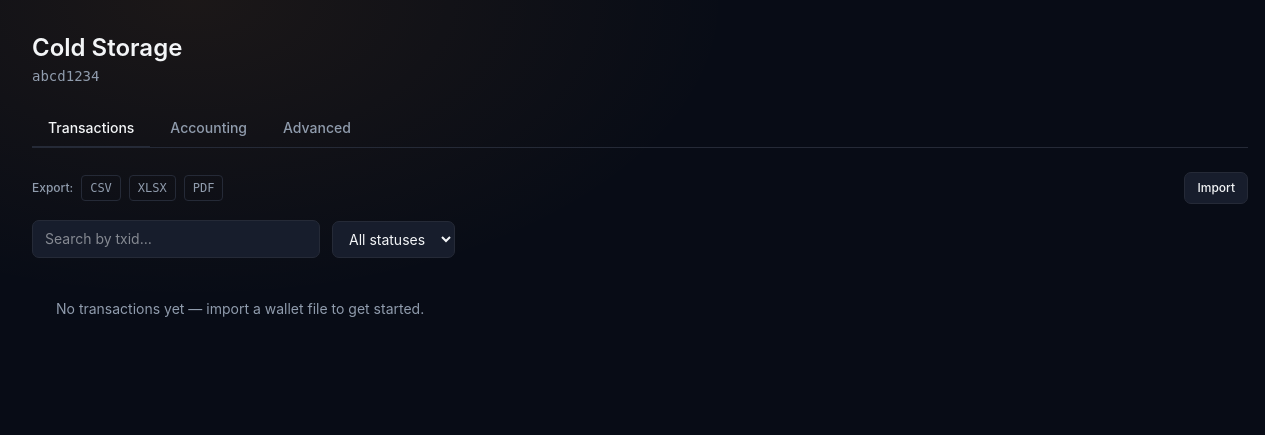
Test case: WalletPage › runs accounting and renders the summary cards
The image size is (1265, 435).
Click the tab "Accounting".
click(209, 129)  # box [154,110,263,148]
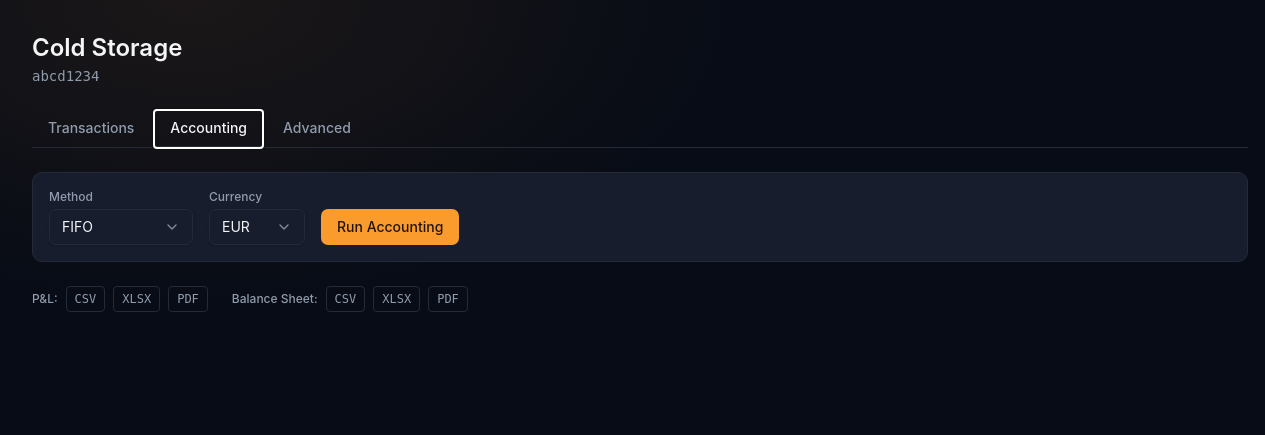
Click the button "Run Accounting".
click(390, 227)  # box [321,209,459,245]
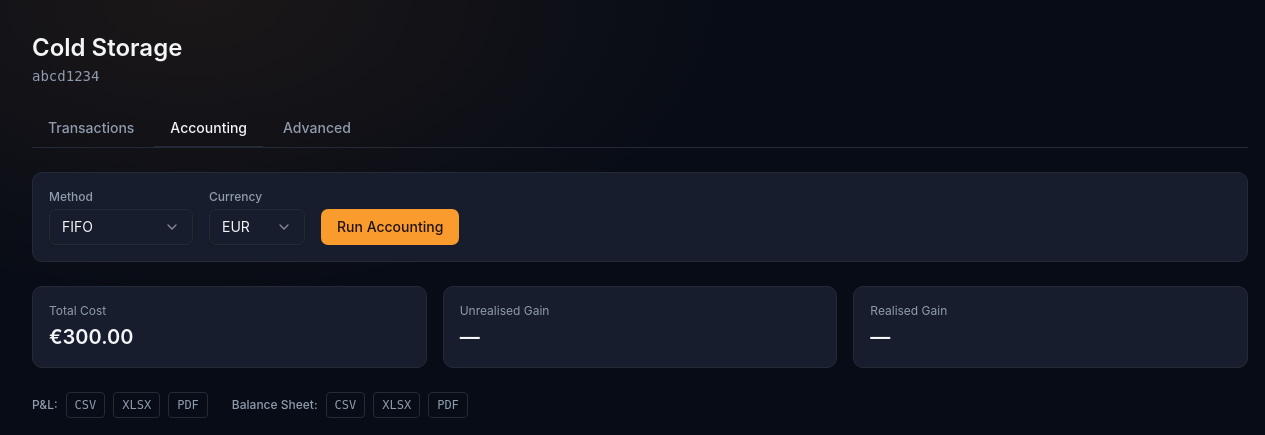
Now the text "Total Cost" is shown, box [49,303,106,318]
Now the text "€300.00" is shown, box [49,325,133,349]
